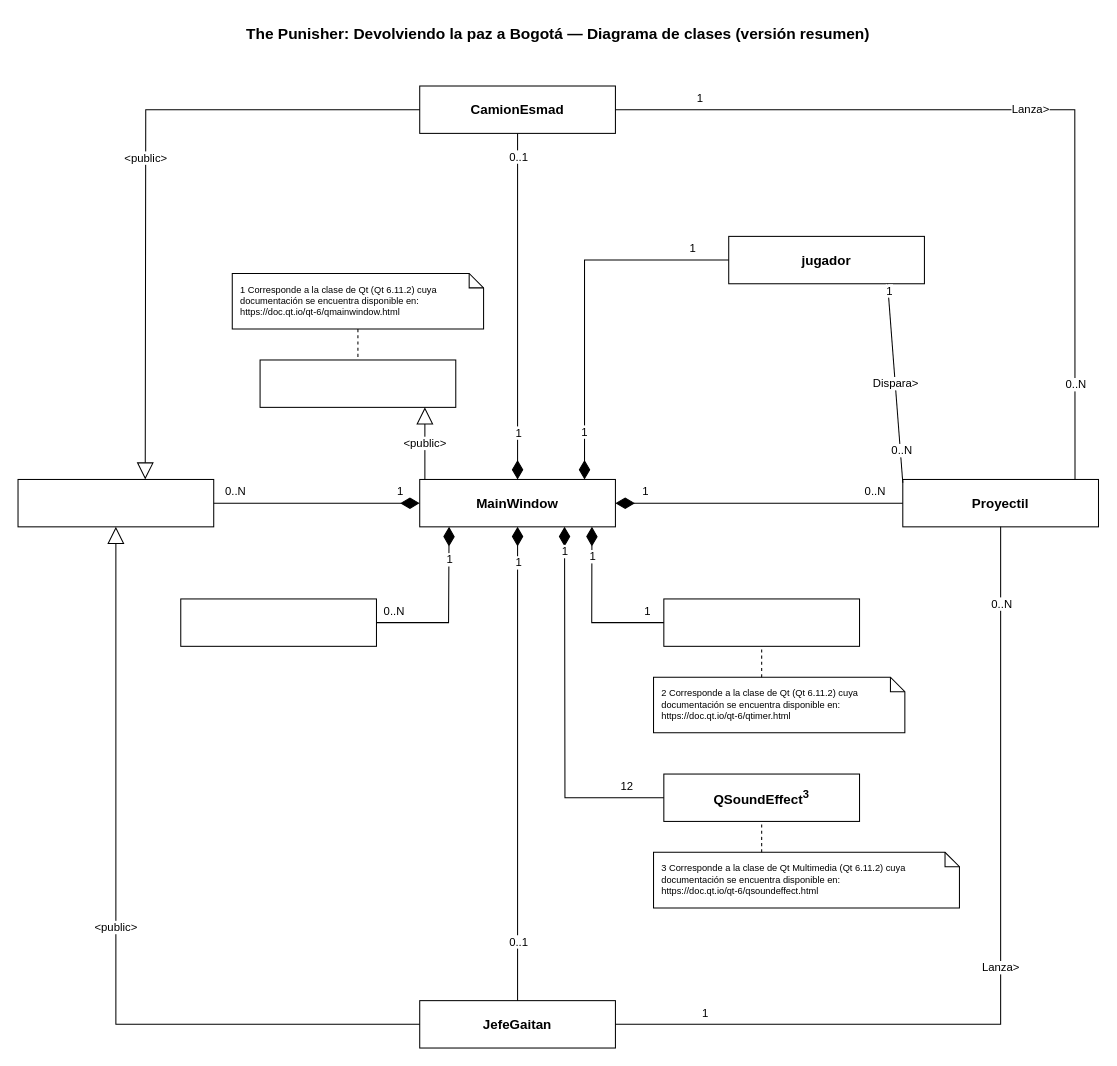
Some shapes in this 1117 by 1066 pixel diagram are drawn without their labels. Each missing label, with the box of its shape:
enemigo: (17, 478, 214, 527)
plataformas: (180, 598, 376, 646)
QMainWindow 1: (259, 359, 456, 407)
QTimer 2: (663, 598, 860, 646)
